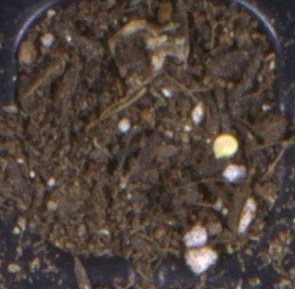chilli seed: (211, 133, 238, 159)
